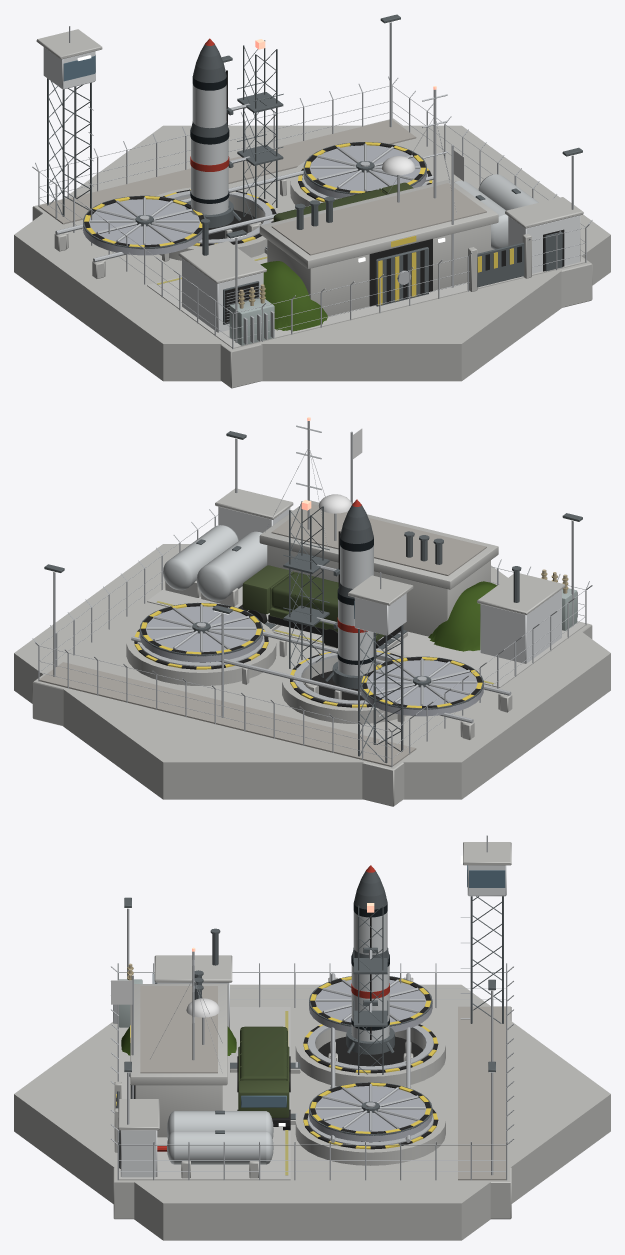
File: missileSilo.glb
3 renders of one model, top to bottom at view 1: azimuth 30°, elevation 25°; view 2: azimuth 150°, elevation 25°; view 3: azimuth 270°, elevation 25°, orthographic.
Parts seen in each view (by area): view 1: wall_concrete, metal, gravel, steel_dark, paint, cladding, dark, pavers, turf, hazard, glass; view 2: wall_concrete, metal, paint, gravel, steel_dark, cladding, pavers, dark, turf, hazard; view 3: wall_concrete, metal, paint, gravel, steel_dark, pavers, dark, cladding, hazard, glass, banner.
Part boxes in pixels (x1,y1,x2,y2): wall_concrete: [14, 29, 610, 388]; metal: [32, 22, 592, 348]; gravel: [39, 119, 486, 255]; steel_dark: [47, 14, 582, 324]; paint: [190, 38, 538, 308]; cladding: [43, 47, 580, 332]; dark: [84, 70, 564, 323]; pavers: [147, 255, 585, 348]; turf: [260, 261, 327, 331]; hazard: [84, 142, 513, 305]; glass: [63, 55, 95, 81]; wall_concrete: [14, 488, 610, 806]; metal: [32, 421, 592, 767]; paint: [163, 494, 568, 675]; gravel: [39, 504, 486, 766]; steel_dark: [44, 431, 582, 763]; cladding: [218, 506, 561, 663]; pavers: [147, 586, 585, 687]; dark: [134, 531, 482, 708]; turf: [428, 581, 497, 651]; hazard: [134, 603, 482, 708]; wall_concrete: [14, 842, 610, 1240]; metal: [111, 835, 513, 1180]; paint: [127, 865, 389, 1164]; gravel: [140, 986, 505, 1180]; steel_dark: [117, 896, 503, 1167]; pavers: [119, 1007, 290, 1180]; dark: [116, 912, 438, 1168]; cladding: [120, 865, 506, 1177]; hazard: [116, 976, 437, 1149]; glass: [241, 865, 505, 1107]; banner: [111, 980, 132, 1004].
Size of the model in its own units: 21.3 by 10.47 by 24.6.
